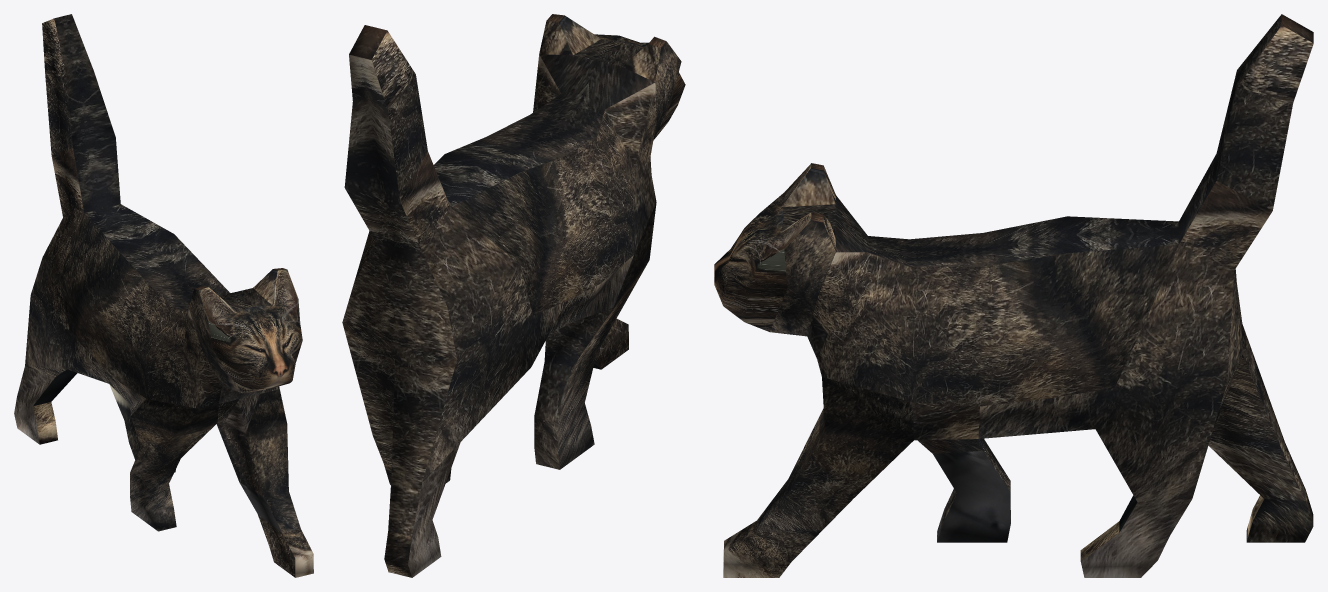
File: Gato.glb
3 views of the same model, side by side, from view 1: azimuth 30°, elevation 25°; view 2: azimuth 150°, elevation 25°; view 3: azimuth 270°, elevation 25° (orthographic). The views are drawn at different scales.
Parts seen in each view (by area): view 1: Cube; view 2: Cube; view 3: Cube.
Part boxes in pixels (bbox=[...]): Cube: bbox=[14, 14, 313, 577]; Cube: bbox=[342, 14, 685, 577]; Cube: bbox=[714, 14, 1313, 577].
Size of the model in its own units: 0.943 by 3.18 by 3.23.
1 material, 1 textured.
